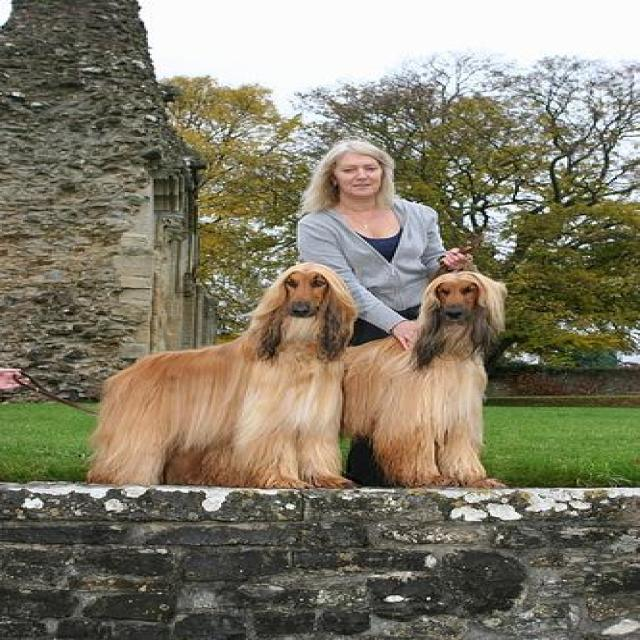afghan_hound: (86, 264, 358, 490), (335, 274, 513, 489)
